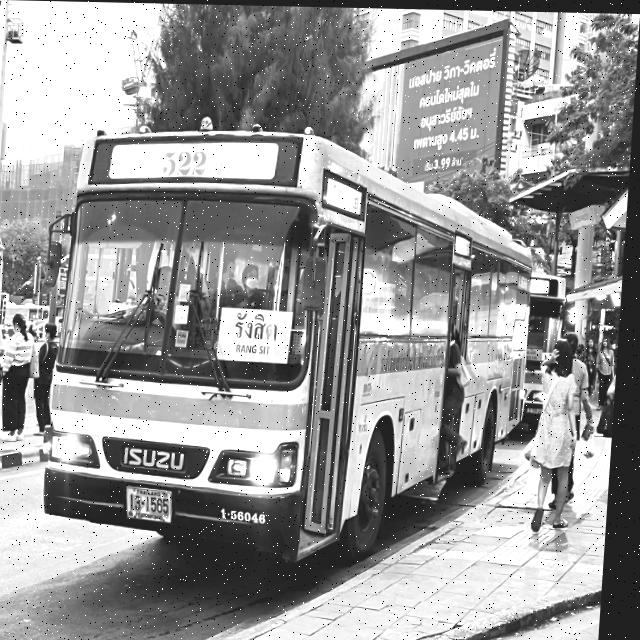BMTA-bus: (41, 102, 550, 579)
Bus-Line-Number: (159, 145, 257, 180)
Destination-Sign-Normal-Expressway: (222, 306, 294, 362)
